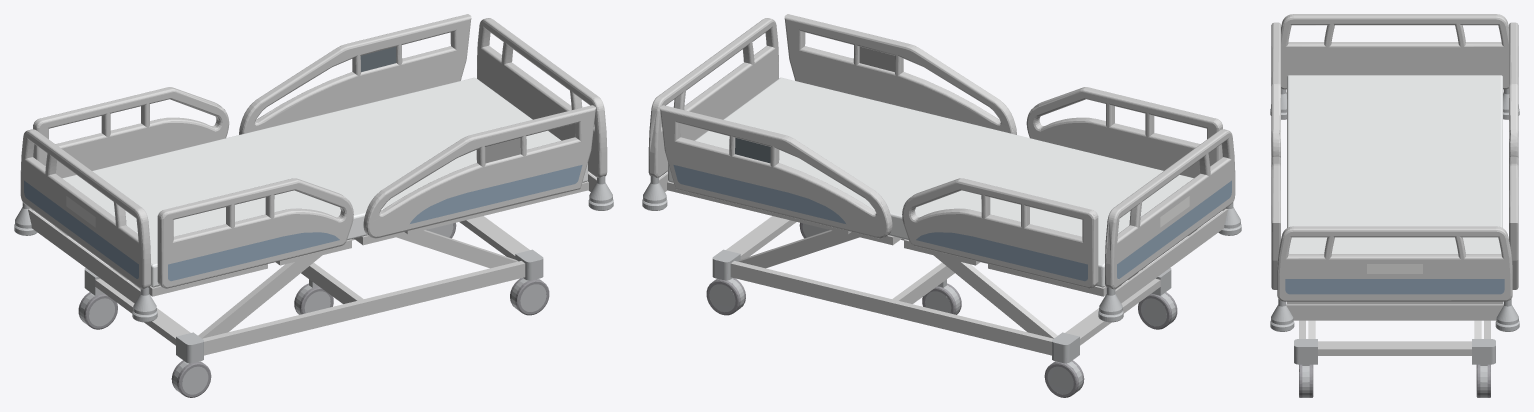
Rendered from surgical_bed.glb.
3 views of the same model, side by side, from view 1: azimuth 30°, elevation 25°; view 2: azimuth 150°, elevation 25°; view 3: azimuth 270°, elevation 25° (orthographic). The views are drawn at different scales.
Parts seen in each view (by area): view 1: me12, me19, me5, me22, me24, me15, me11, me28, me9, me27, me16, me26 (+9 smaller); view 2: me12, me19, me22, me5, me11, me15, me24, me28, me8, me7, me16, me26 (+9 smaller); view 3: me12, me19, me16, me13, me15, me6, me11, me24, me4, me5, me22, me30 (+4 smaller).
Part boxes in pixels (x1,y1,x2,y2): me12: (62, 77, 587, 287); me19: (20, 18, 607, 289); me5: (363, 105, 595, 238); me22: (239, 14, 471, 134); me24: (157, 178, 353, 288); me15: (95, 216, 529, 355); me11: (33, 87, 229, 178); me28: (80, 223, 546, 394); me9: (168, 232, 339, 281); me27: (410, 165, 582, 223); me16: (28, 172, 596, 303); me26: (114, 255, 321, 338); me12: (668, 77, 1193, 287); me19: (648, 18, 1235, 289); me22: (660, 105, 892, 238); me5: (784, 14, 1016, 134); me11: (902, 178, 1098, 288); me15: (726, 216, 1160, 355); me24: (1026, 87, 1222, 177); me28: (709, 223, 1175, 394); me8: (916, 232, 1087, 281); me7: (673, 165, 845, 223); me16: (659, 172, 1227, 303); me26: (934, 255, 1141, 338); me12: (1287, 75, 1502, 253); me19: (1277, 14, 1512, 301); me16: (1286, 92, 1503, 320); me13: (1285, 279, 1504, 294); me15: (1299, 320, 1490, 355); me6: (1270, 93, 1519, 331); me11: (1509, 22, 1518, 158); me24: (1271, 22, 1280, 158); me4: (1294, 339, 1495, 364); me5: (1271, 156, 1280, 289); me22: (1509, 156, 1518, 289); me30: (1287, 301, 1502, 304).
Bounding box in the file's own units: 2190 × 901 × 1038.
